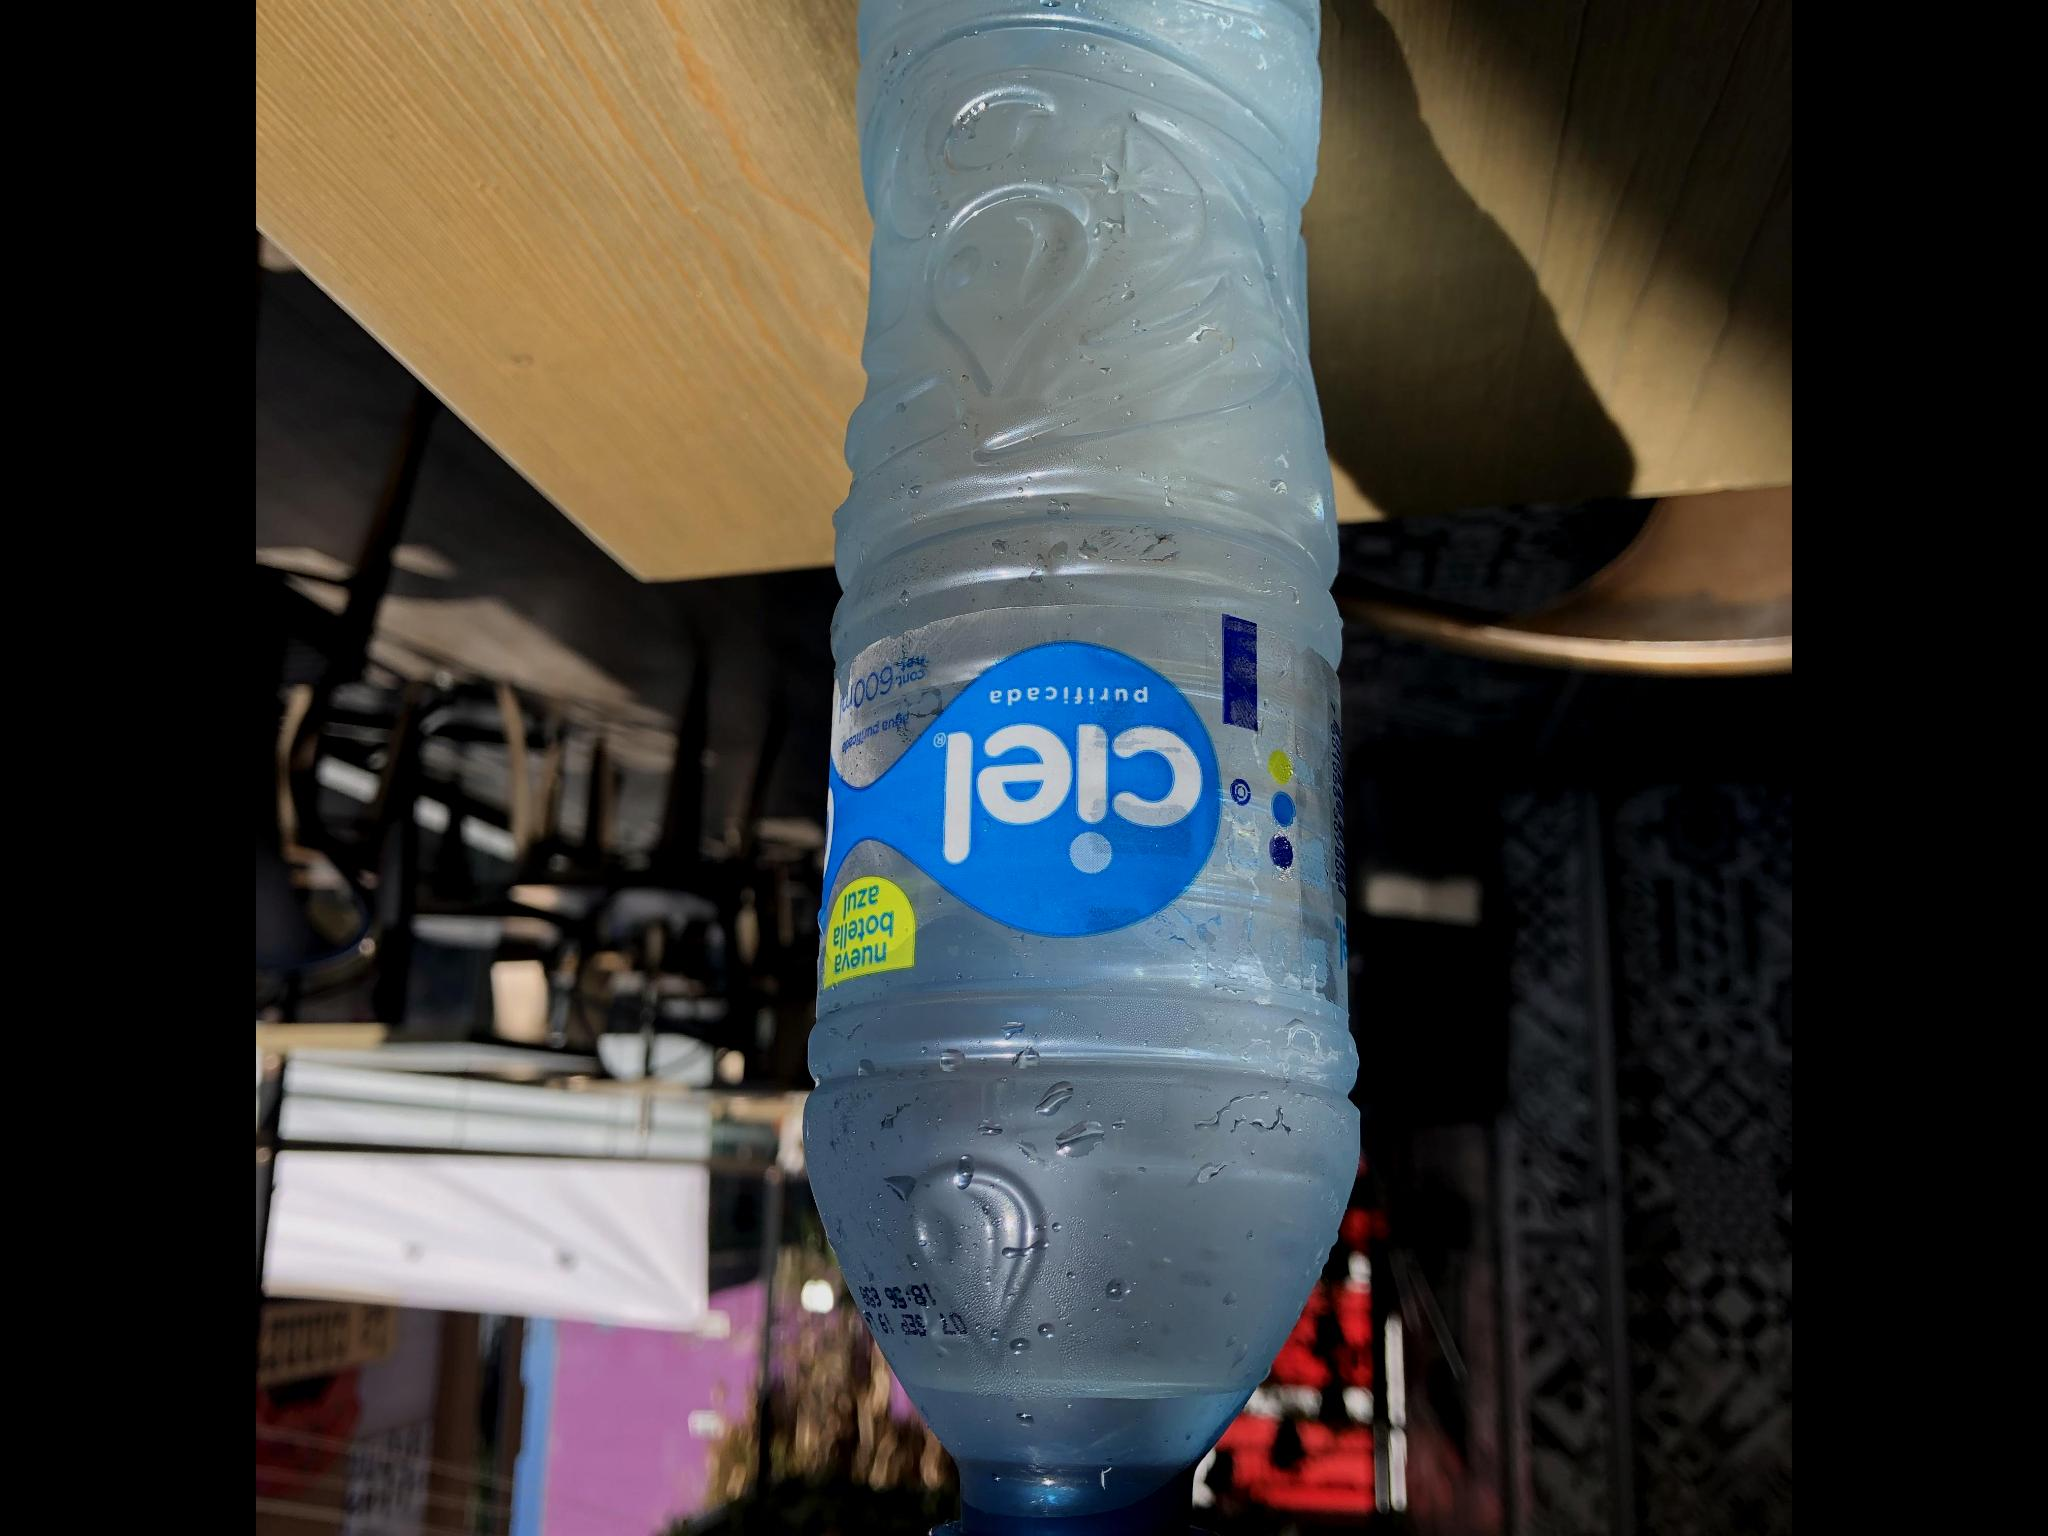bottle: (785, 0, 1374, 1536)
